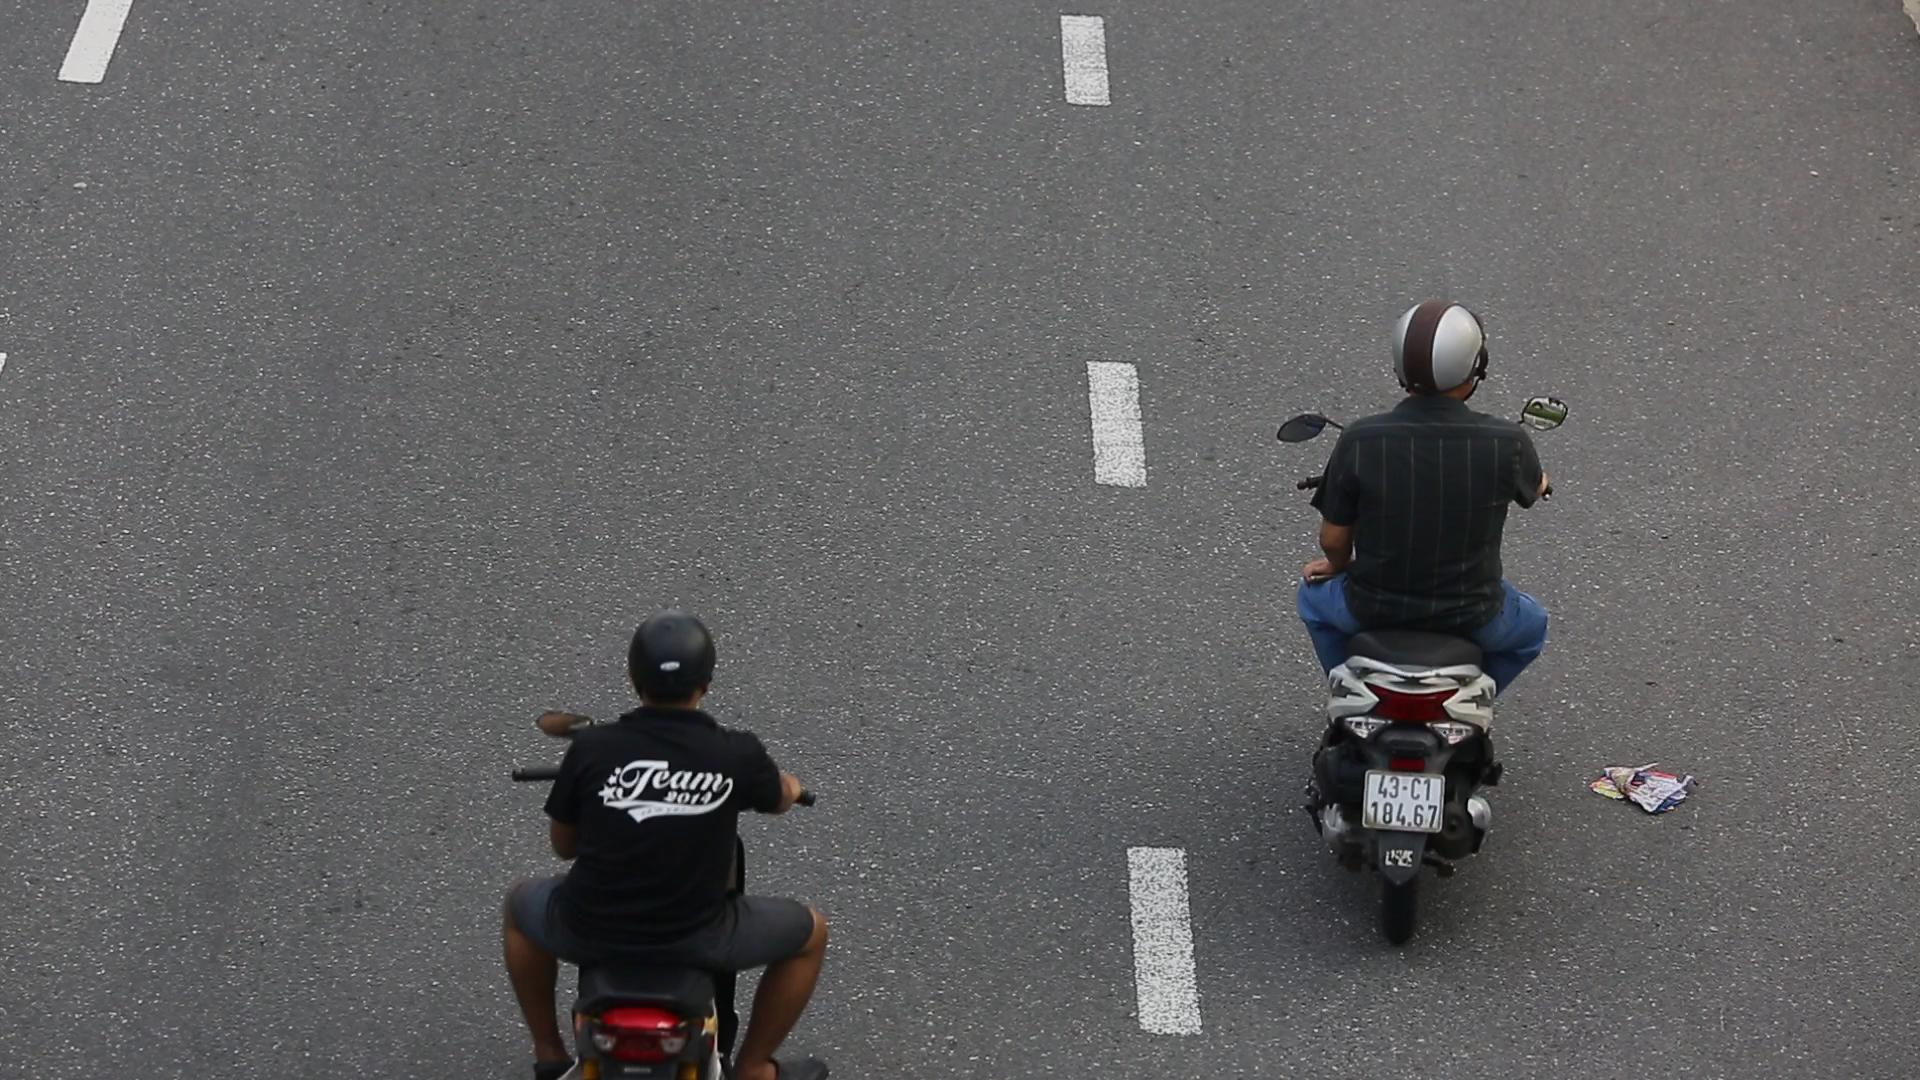motobike: (1247, 286, 1573, 952)
